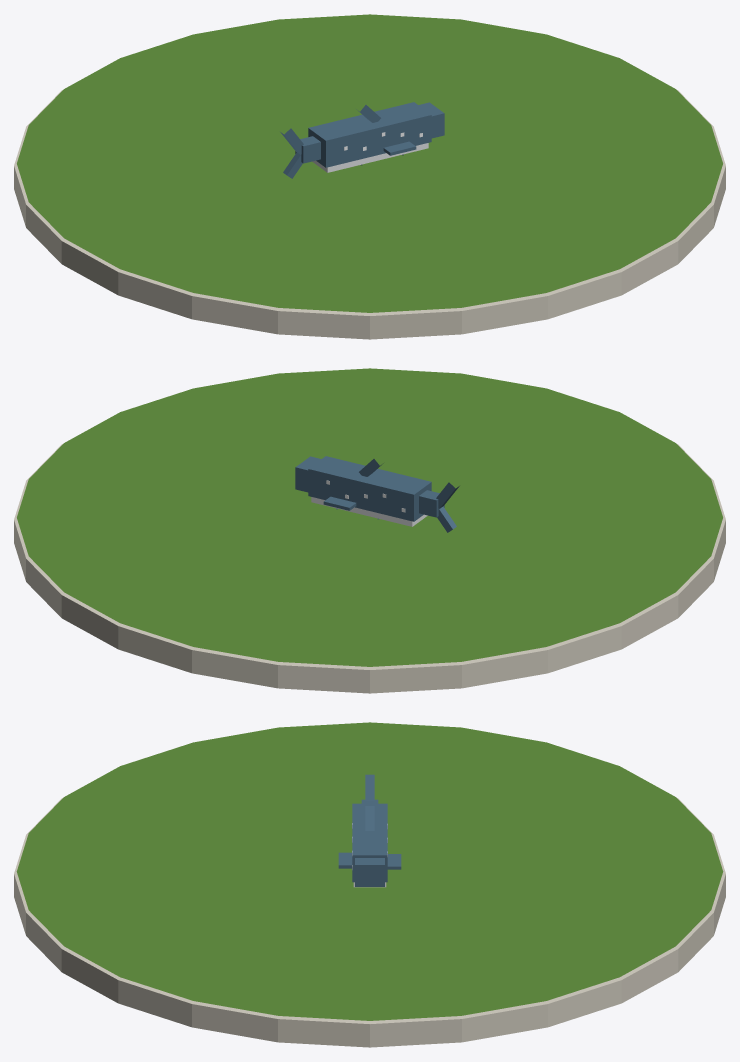
The model's file is rb_whaleshark.glb.
3 views of the same model, one above another, from view 1: azimuth 30°, elevation 25°; view 2: azimuth 150°, elevation 25°; view 3: azimuth 270°, elevation 25° (orthographic).
Visible parts, largest first — view 1: rb_whaleshark_lod0; view 2: rb_whaleshark_lod0; view 3: rb_whaleshark_lod0.
Part boxes in pixels (bbox=[...]): rb_whaleshark_lod0: bbox=[14, 14, 725, 339]; rb_whaleshark_lod0: bbox=[14, 368, 725, 693]; rb_whaleshark_lod0: bbox=[14, 722, 725, 1047].
Size of what is drawn, in the model's own units: 52.4 by 7.14 by 52.4.
